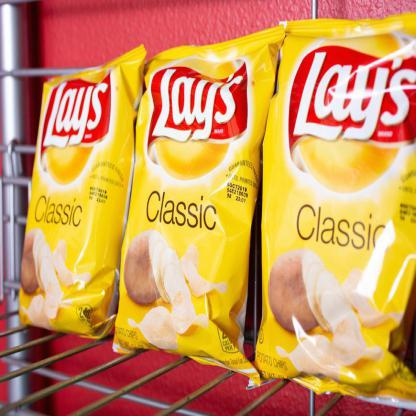potatochip: (244, 5, 415, 415), (104, 23, 289, 398), (13, 41, 150, 344)
